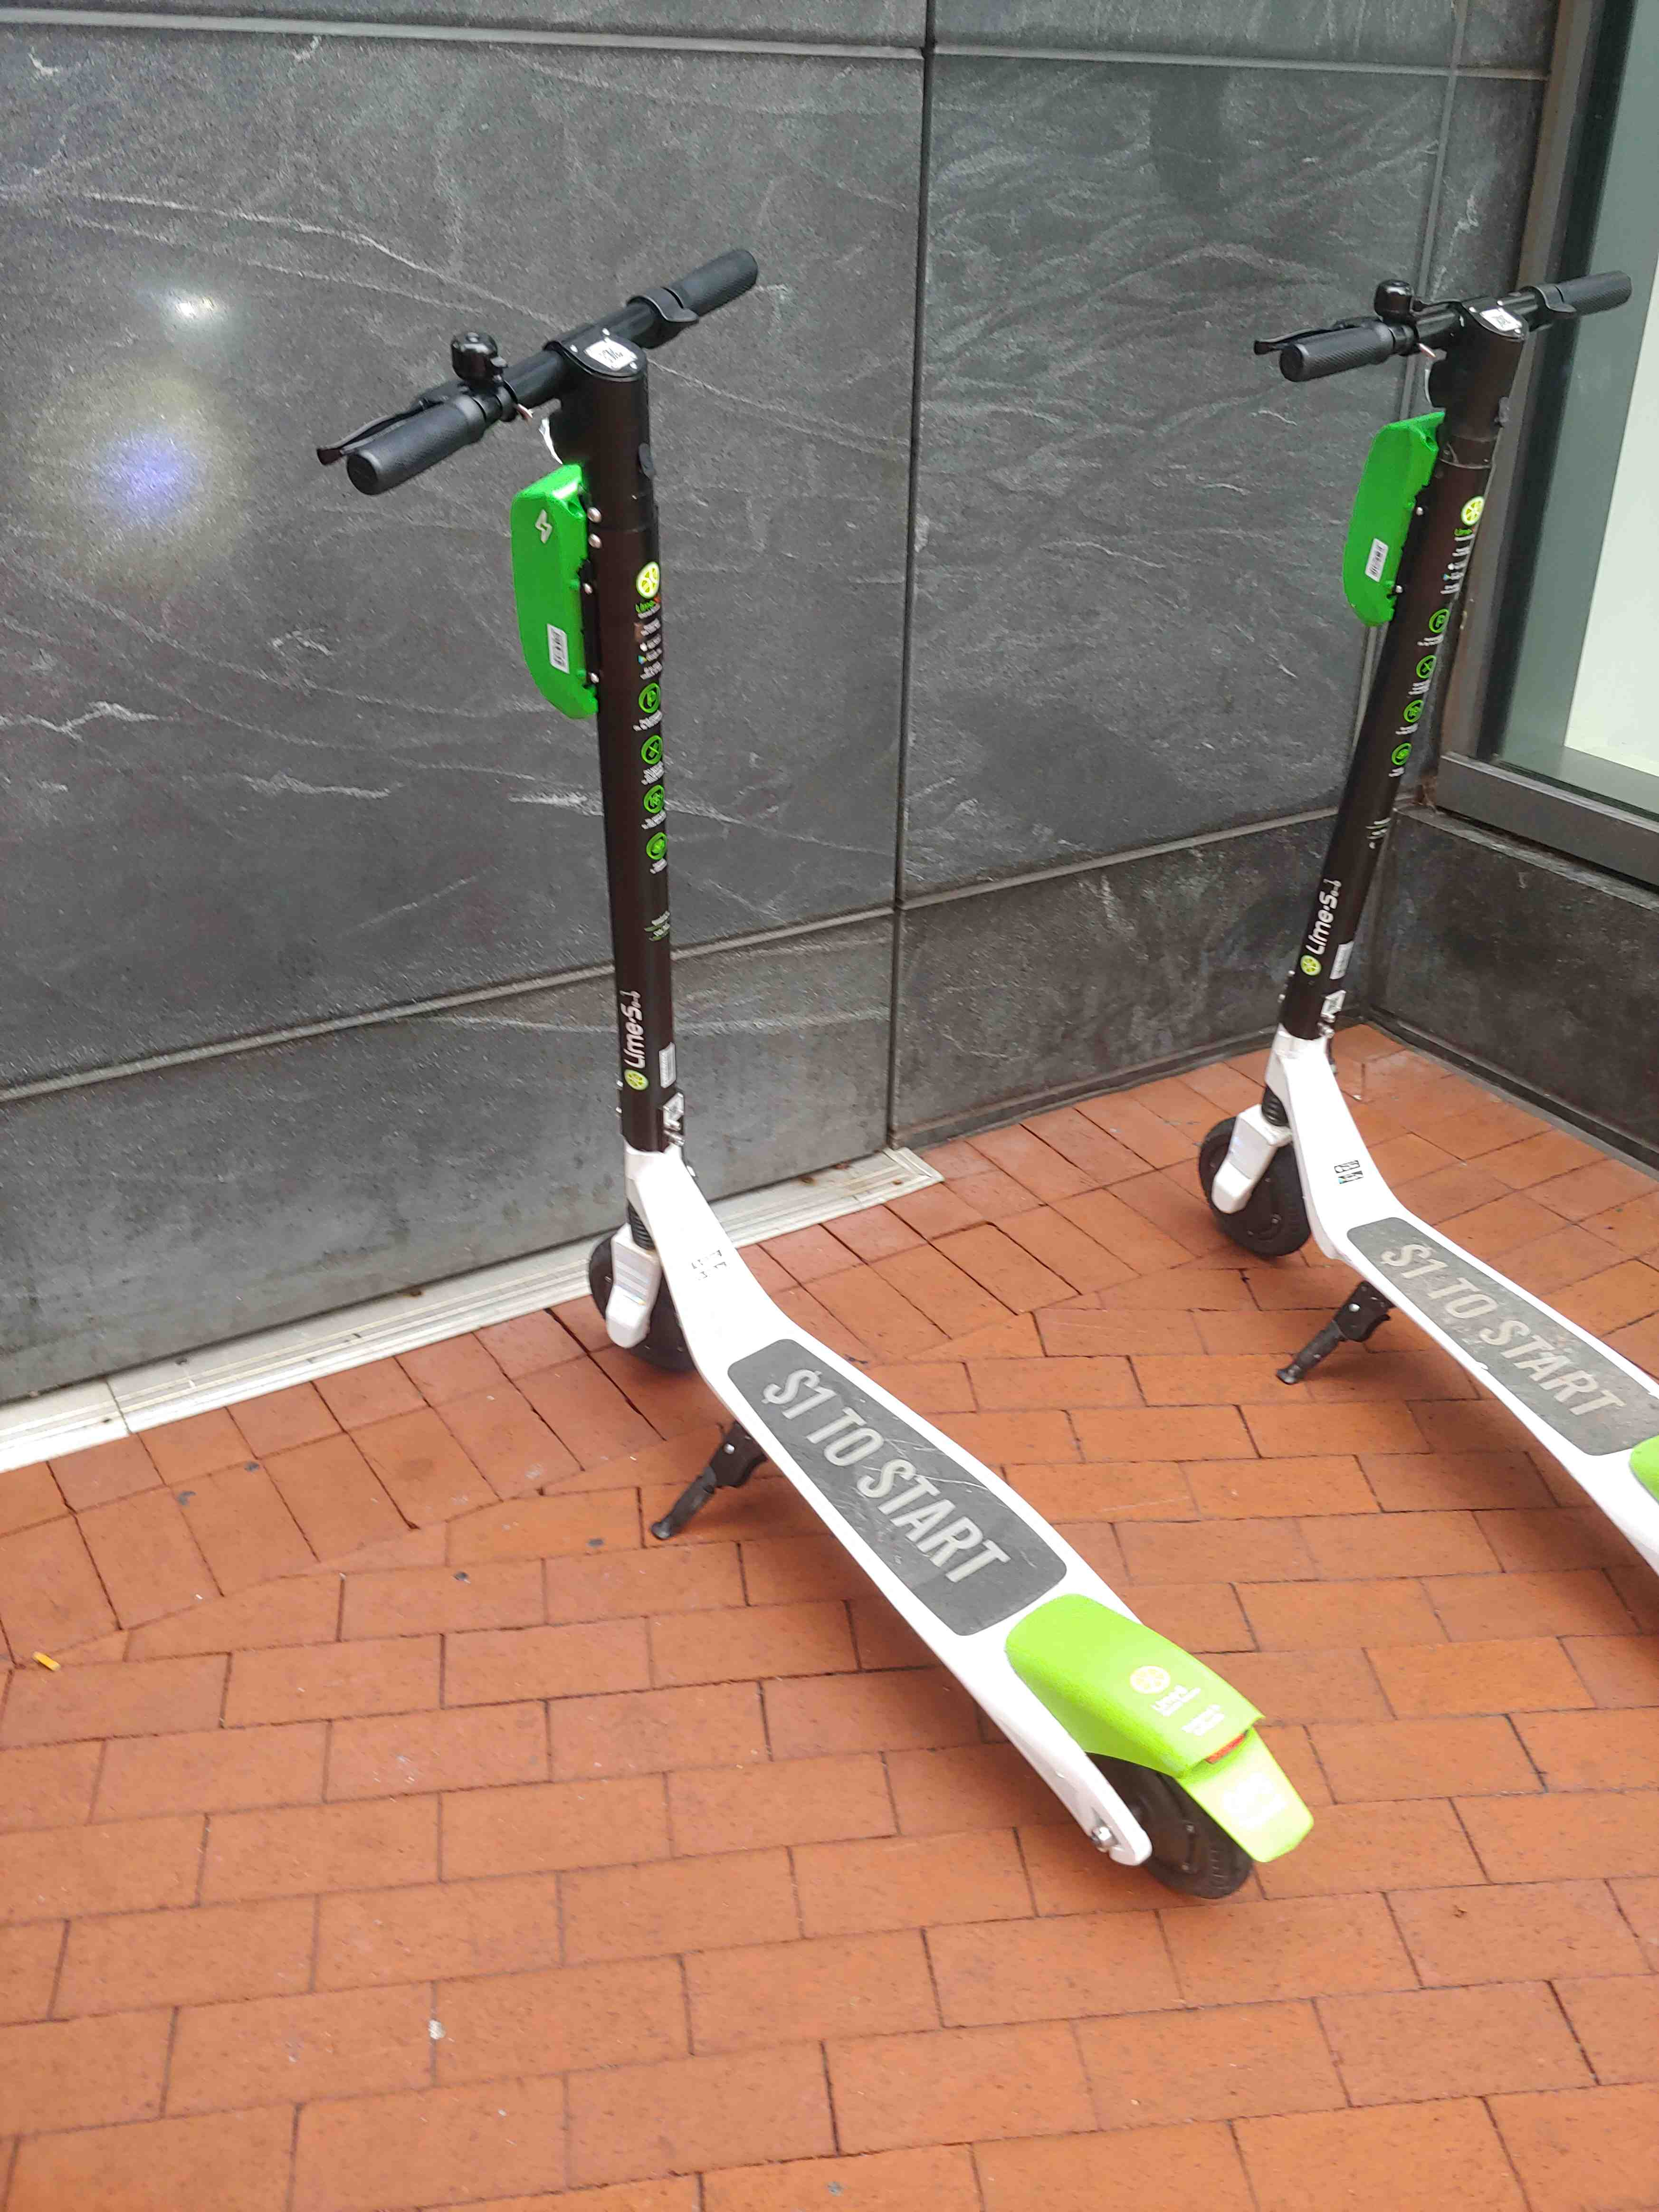scooter: (314, 247, 1342, 1902), (1178, 260, 1659, 1597)
